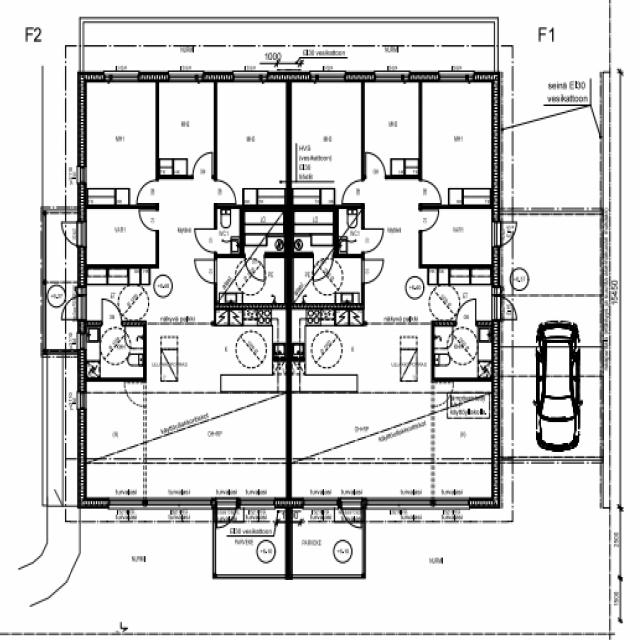door: (341, 498, 362, 533), (57, 222, 86, 246), (57, 295, 86, 319), (492, 296, 520, 320), (492, 222, 520, 246), (217, 498, 236, 532), (341, 179, 365, 203), (456, 298, 476, 326), (245, 254, 265, 282), (194, 259, 217, 283), (102, 298, 121, 326), (361, 228, 384, 251), (136, 180, 159, 203), (366, 152, 385, 179), (361, 260, 384, 282), (419, 180, 441, 203), (213, 180, 236, 202), (314, 254, 332, 281), (418, 209, 440, 231), (195, 230, 217, 252), (193, 153, 211, 179), (139, 211, 159, 230), (492, 288, 508, 296), (72, 288, 86, 294)
